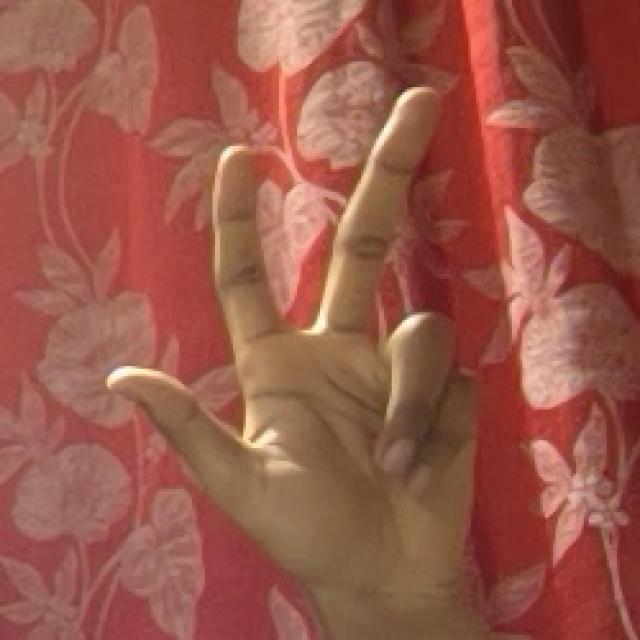Numeric-3: (106, 85, 480, 610)
